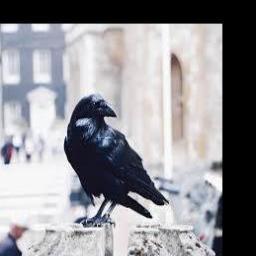Crow: (63, 93, 169, 227)
